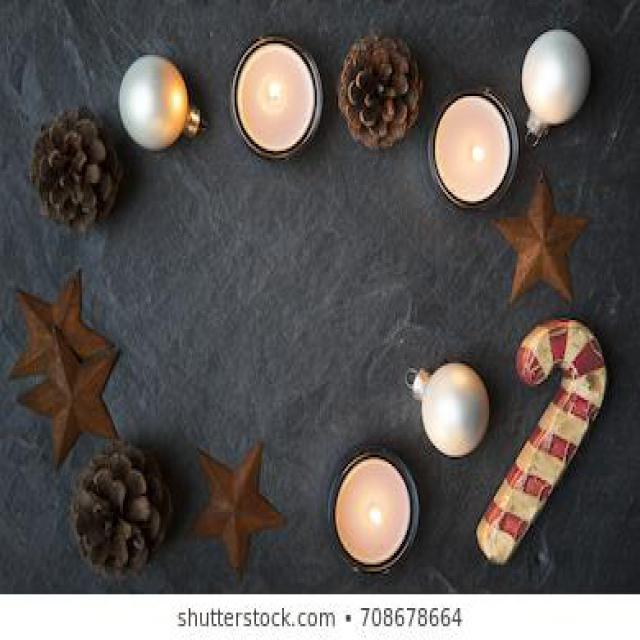Fire: (368, 503, 382, 526), (270, 78, 283, 100), (471, 144, 484, 164), (0, 1, 2, 4)
